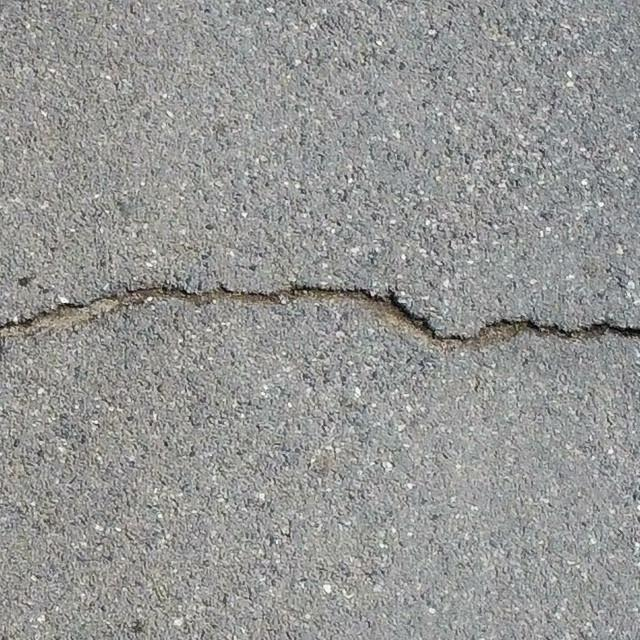TransverseCrack: (1, 284, 640, 351)
